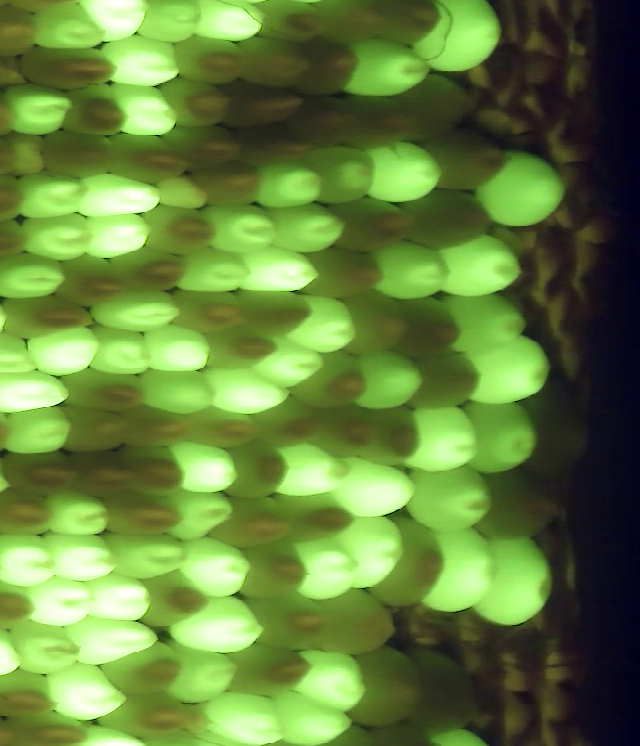fluorescent: (477, 146, 573, 236), (475, 530, 556, 634), (422, 521, 505, 619), (405, 459, 498, 539), (458, 333, 558, 406), (410, 1, 505, 76), (337, 32, 432, 104), (170, 590, 270, 658), (433, 231, 526, 304), (286, 644, 373, 721), (328, 454, 421, 524), (42, 659, 133, 727), (359, 137, 446, 208), (157, 641, 249, 707), (173, 532, 255, 606), (461, 400, 540, 476), (401, 404, 481, 479), (334, 513, 409, 593), (371, 238, 454, 310), (440, 291, 529, 358), (267, 682, 358, 746), (198, 196, 284, 261), (5, 612, 86, 681), (268, 439, 359, 500), (164, 435, 244, 502), (303, 142, 380, 211), (240, 237, 324, 300), (14, 210, 105, 268), (202, 365, 297, 420), (102, 526, 190, 584), (73, 169, 167, 223), (91, 286, 188, 338), (38, 528, 126, 585), (247, 333, 329, 394), (348, 351, 429, 412), (0, 73, 76, 138), (130, 367, 225, 419), (285, 536, 361, 601), (65, 615, 163, 665), (194, 691, 283, 746), (265, 201, 352, 256), (41, 486, 122, 544), (291, 294, 362, 358), (142, 318, 219, 377), (158, 487, 241, 541), (14, 168, 93, 224), (106, 80, 180, 139), (177, 244, 253, 301), (101, 35, 181, 89), (27, 3, 111, 54), (23, 573, 98, 630), (249, 157, 328, 211), (27, 325, 106, 379), (79, 573, 156, 628), (83, 322, 156, 379), (0, 528, 64, 593), (0, 365, 74, 420), (0, 404, 78, 455), (81, 207, 156, 260), (0, 247, 72, 302), (129, 1, 209, 50), (191, 1, 267, 49), (78, 1, 152, 44), (0, 329, 43, 380)
nonfluorescent: (519, 372, 596, 483), (371, 515, 455, 613), (471, 464, 564, 550), (408, 646, 487, 741), (391, 68, 474, 151), (399, 186, 500, 254), (350, 645, 426, 733), (422, 127, 517, 196), (16, 40, 124, 100), (333, 87, 422, 155), (320, 586, 400, 661), (286, 348, 373, 416), (248, 588, 335, 654), (51, 367, 154, 421), (293, 246, 388, 304), (103, 639, 188, 703), (225, 642, 317, 701), (167, 32, 257, 92), (116, 442, 200, 506), (110, 126, 195, 189), (274, 487, 361, 548), (331, 193, 419, 253), (405, 350, 489, 411), (306, 399, 386, 463), (233, 284, 319, 343), (155, 72, 235, 135), (37, 127, 127, 183), (339, 291, 414, 358), (55, 79, 133, 143), (137, 199, 220, 259), (396, 292, 469, 360), (0, 293, 101, 342), (135, 567, 211, 632), (50, 253, 136, 310), (217, 80, 308, 133), (239, 538, 312, 604), (97, 691, 199, 738), (233, 34, 317, 91), (360, 401, 428, 471), (246, 396, 328, 454), (159, 122, 247, 176), (211, 495, 300, 548), (293, 34, 364, 99), (180, 402, 267, 455), (97, 493, 192, 541), (109, 244, 191, 299), (54, 406, 139, 459), (225, 434, 290, 503), (63, 446, 140, 504), (168, 286, 250, 339), (0, 447, 84, 498), (188, 159, 268, 211), (283, 93, 360, 147), (231, 122, 317, 170), (116, 403, 198, 453), (369, 1, 457, 46), (251, 1, 336, 47), (310, 1, 391, 49), (0, 666, 62, 723), (8, 707, 94, 746), (0, 486, 57, 542), (0, 3, 46, 62), (0, 577, 39, 633), (0, 174, 32, 227), (0, 216, 33, 267)
